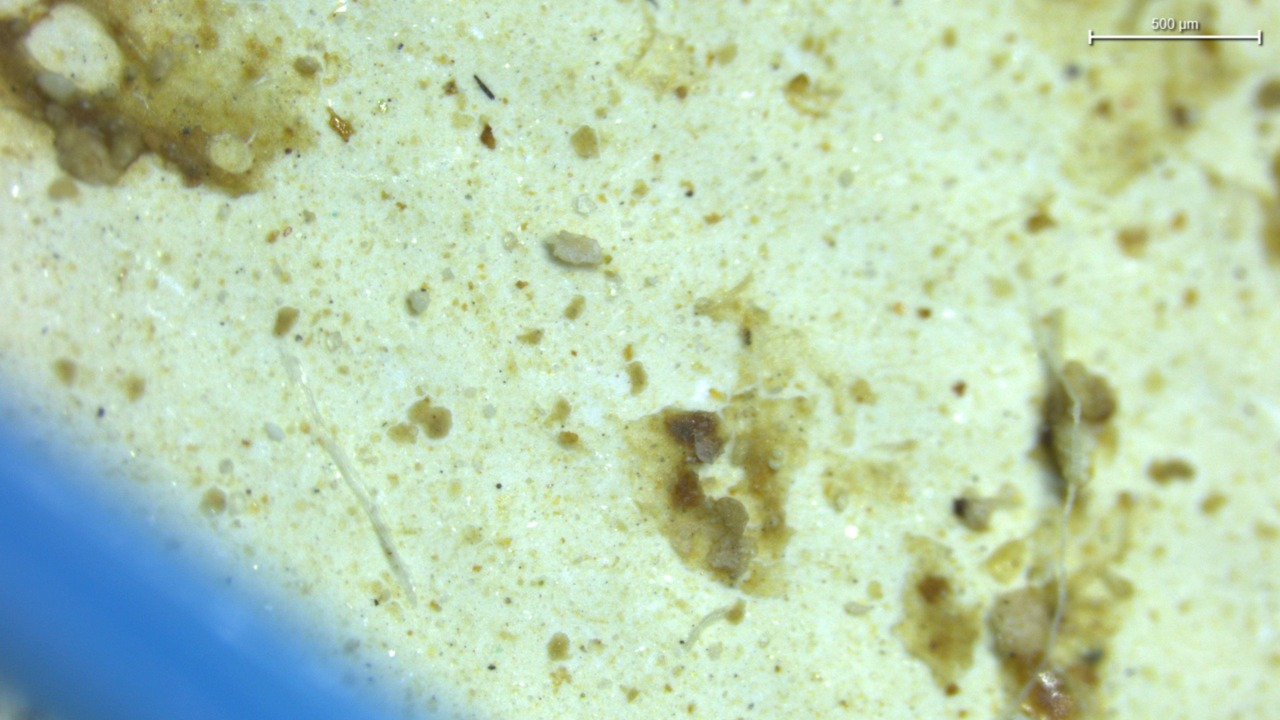microplastic_fragment: (544, 230, 602, 266), (406, 285, 430, 316)
